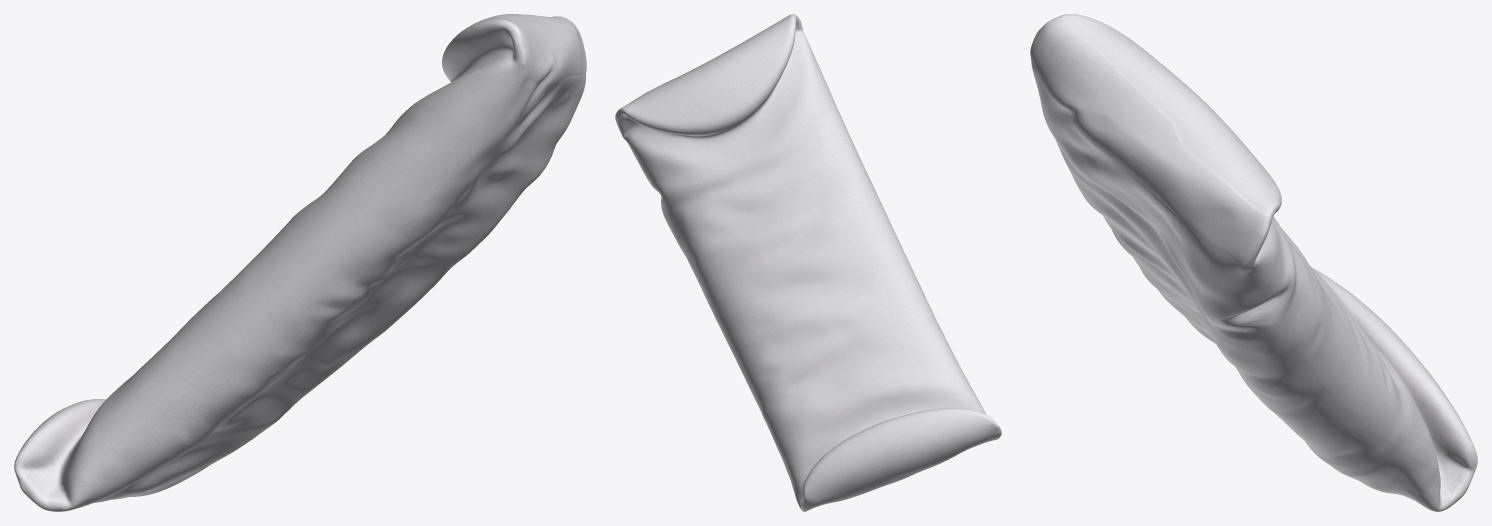
File: decor-napkin-white.glb
3 renders of one model, left to right at view 1: azimuth 30°, elevation 25°; view 2: azimuth 150°, elevation 25°; view 3: azimuth 270°, elevation 25°, orthographic. The views are drawn at different scales.
Parts seen in each view (by area): view 1: tripo_node_5d9cb96f-4ddf-477b-8d0b-3e9ce69c23a5; view 2: tripo_node_5d9cb96f-4ddf-477b-8d0b-3e9ce69c23a5; view 3: tripo_node_5d9cb96f-4ddf-477b-8d0b-3e9ce69c23a5.
Boxes of the visible parts, x1=… form: tripo_node_5d9cb96f-4ddf-477b-8d0b-3e9ce69c23a5: x1=14, y1=14, x2=586, y2=511; tripo_node_5d9cb96f-4ddf-477b-8d0b-3e9ce69c23a5: x1=615, y1=14, x2=1001, y2=511; tripo_node_5d9cb96f-4ddf-477b-8d0b-3e9ce69c23a5: x1=1030, y1=14, x2=1477, y2=511.
Bounding box in the file's own units: 0.0864 × 0.08 × 0.0545.
Materials: 1 (1 with a texture image).
